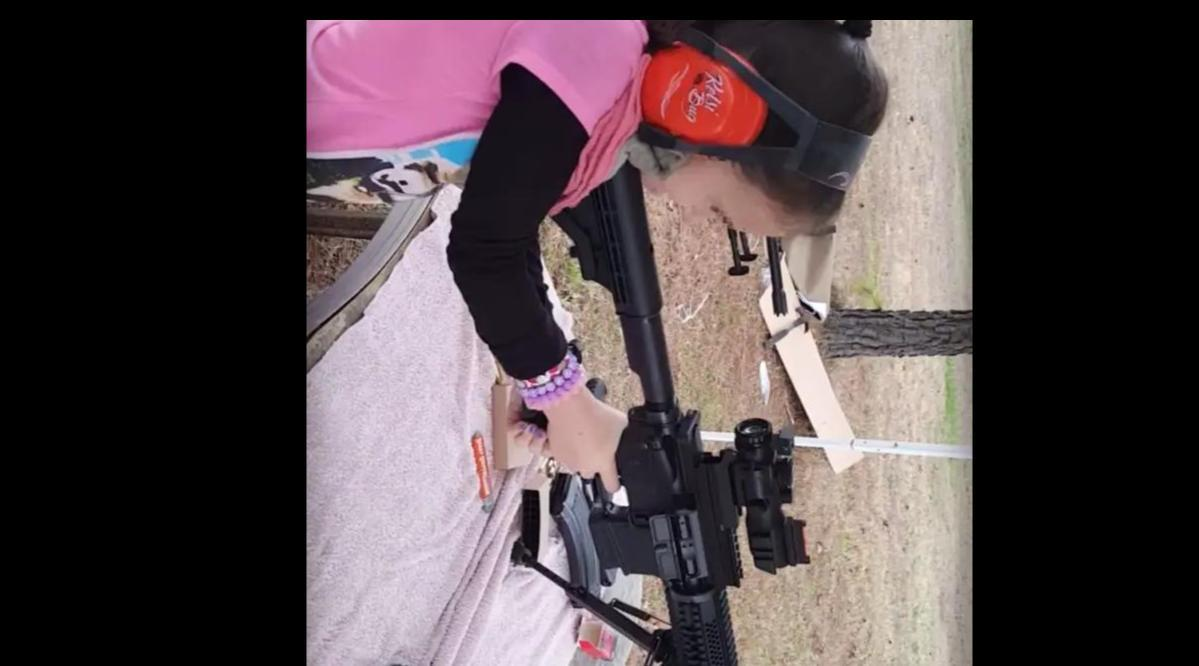larga: (548, 159, 814, 666)
